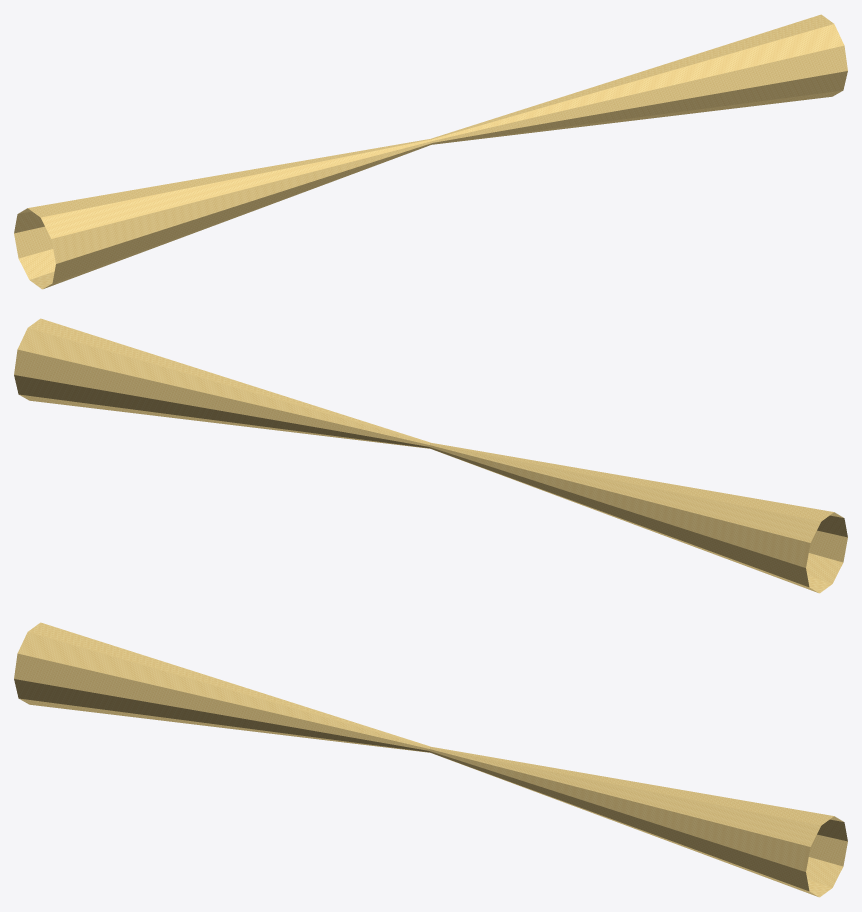
File: haz_faro.obj
The picture shows the model from 3 angles, top to bottom: view 1: azimuth 30°, elevation 25°; view 2: azimuth 150°, elevation 25°; view 3: azimuth 330°, elevation 25°; orthographic projection.
Parts seen in each view (by area): view 1: haz_faro; view 2: haz_faro; view 3: haz_faro.
Part boxes in pixels (bbox=[...]): haz_faro: bbox=[14, 14, 847, 289]; haz_faro: bbox=[14, 318, 847, 593]; haz_faro: bbox=[14, 622, 847, 897].
Bounding box in the file's own units: 120 × 10.47 × 11.02.
Materials: 1 (1 with a texture image).
